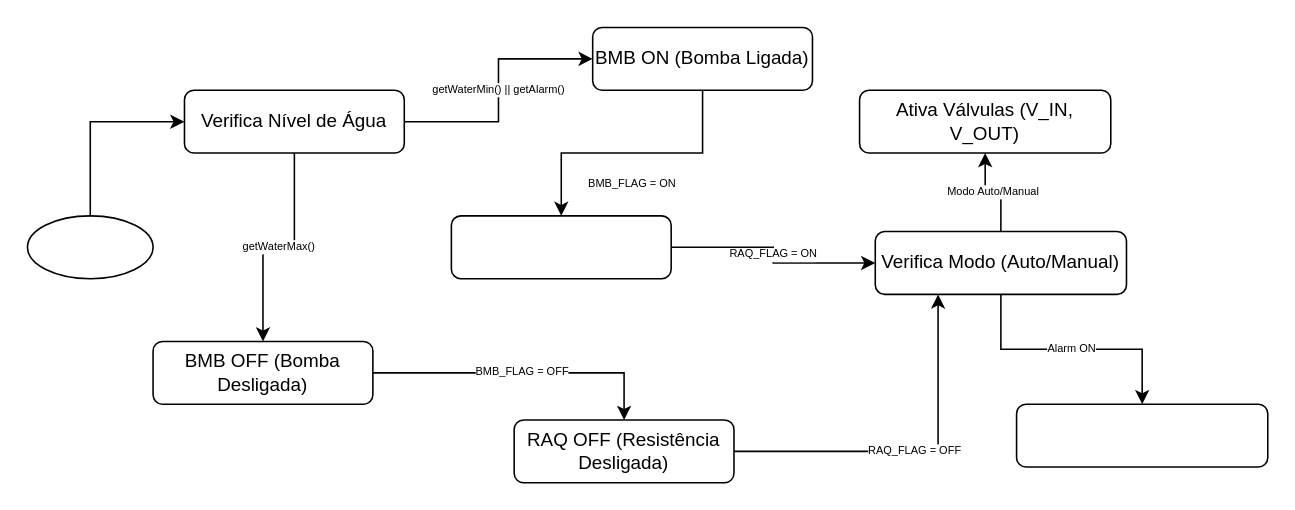
The diagram is 1295 pixels wide and 510 high, and some of its shapes have lost their labels. The shapes that lost their labels are listed below. From the top down, each one's centre as x and y in pixels, then its label:
point 89,246: Inicial
point 560,246: RAQ ON (Resistência Ligada)
point 1141,435: Desativa Válvulas (V_IN, V_OUT)
